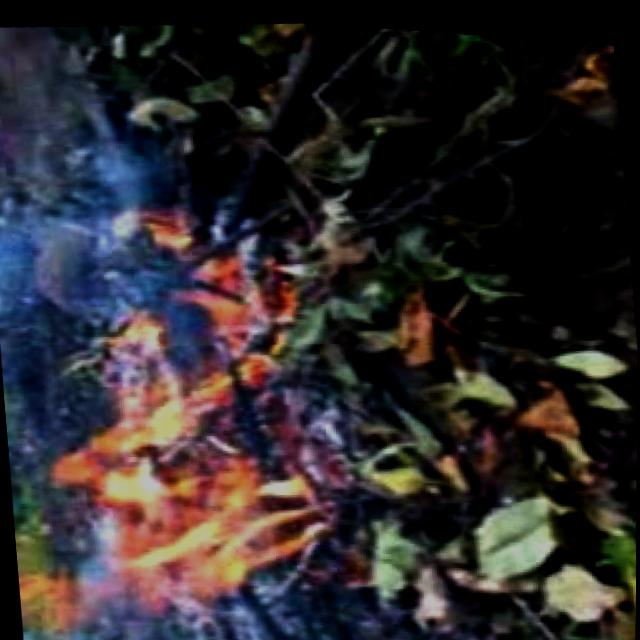Fire: (29, 200, 329, 634)
